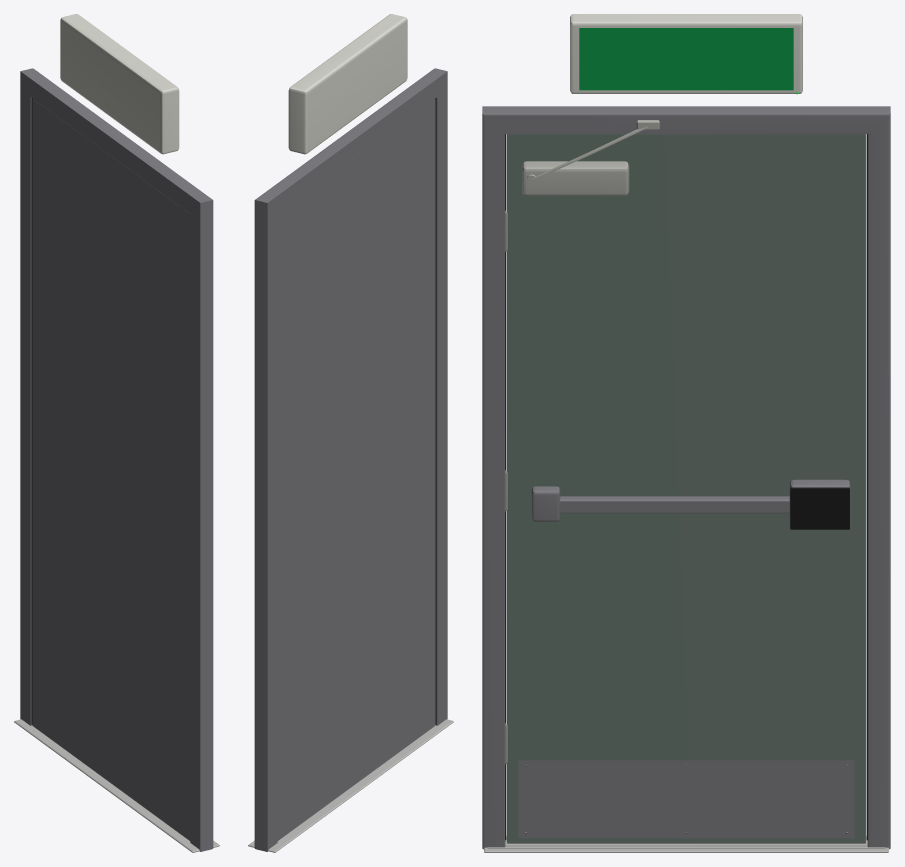
File: item_exit_door.glb
3 views of the same model, side by side, from view 1: azimuth 30°, elevation 25°; view 2: azimuth 150°, elevation 25°; view 3: azimuth 270°, elevation 25° (orthographic). The views are drawn at different scales.
Parts seen in each view (by area): view 1: notausgang; view 2: notausgang; view 3: notausgang.
Boxes of the visible parts, box(x1,y1,x2,y2) form: notausgang: box(14, 14, 219, 852); notausgang: box(248, 14, 453, 852); notausgang: box(482, 14, 890, 852).
Size of the model in its own units: 0.129 by 2.39 by 1.07.
